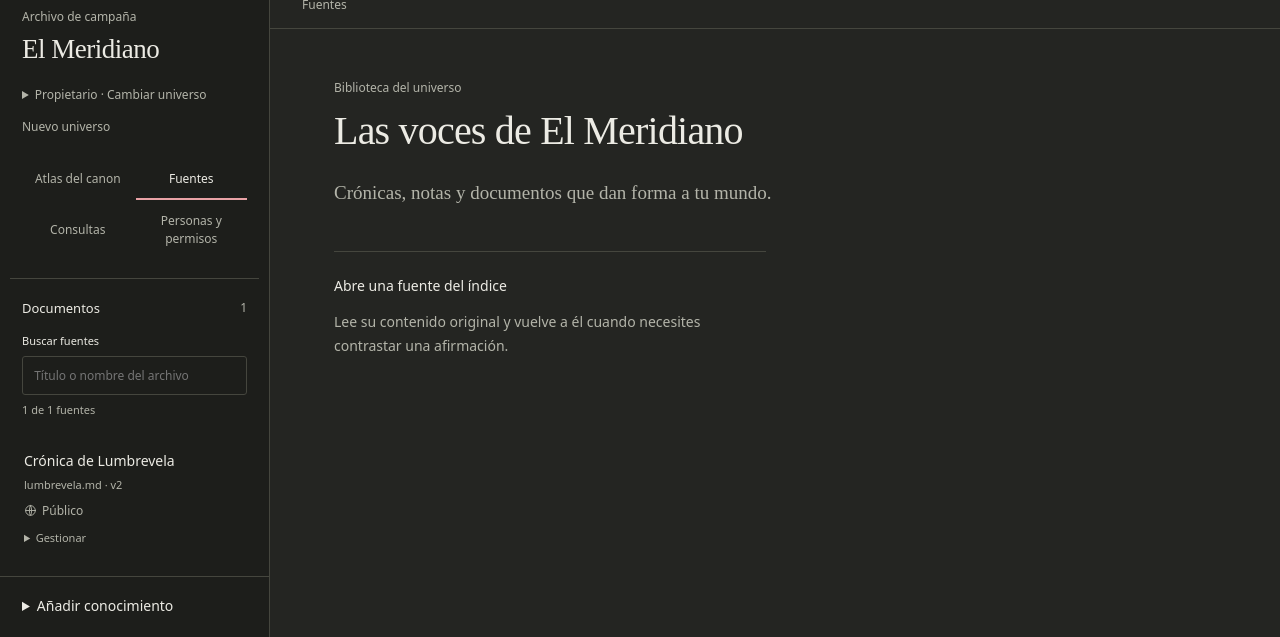
Test: App › muestra una respuesta con la localización exacta de la cita
Expected: the text "Crónica de Lumbrevela" is shown, [24,451,175,470]
Click the link "Consultas".
click(78, 229)  # box [50,221,105,238]
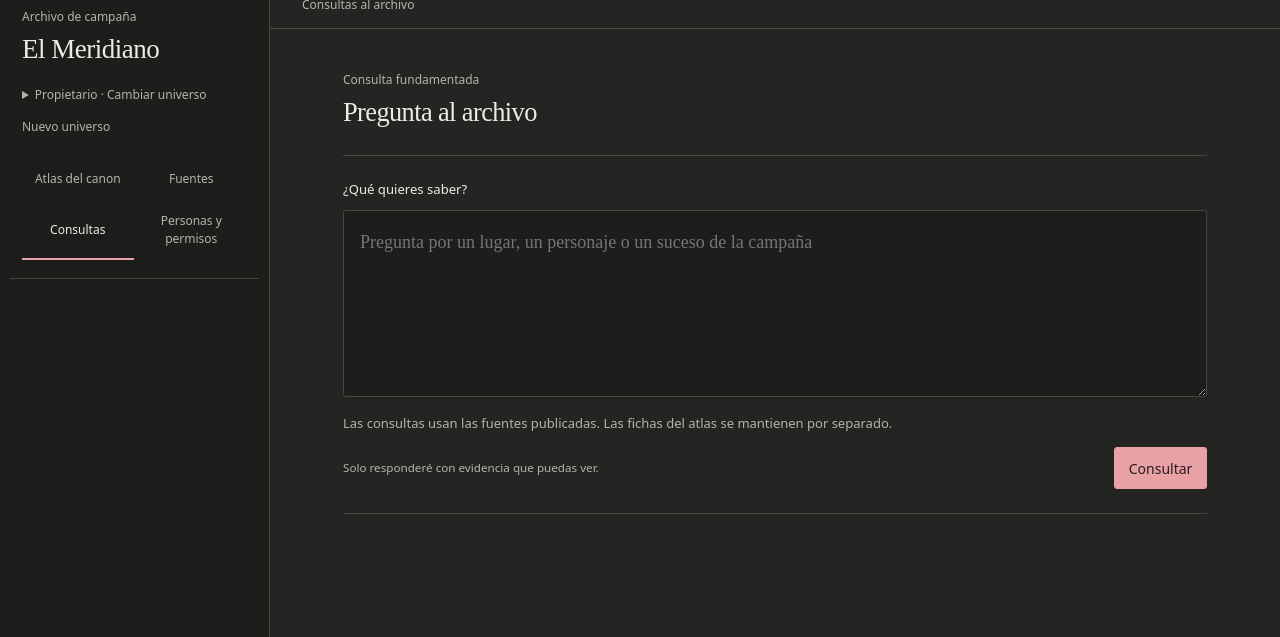
Replace the text in the text box labelled "¿Qué quieres saber?" with "¿Qué deuda conserva la Aguja?" at (775, 303), box [343,210,1207,397]
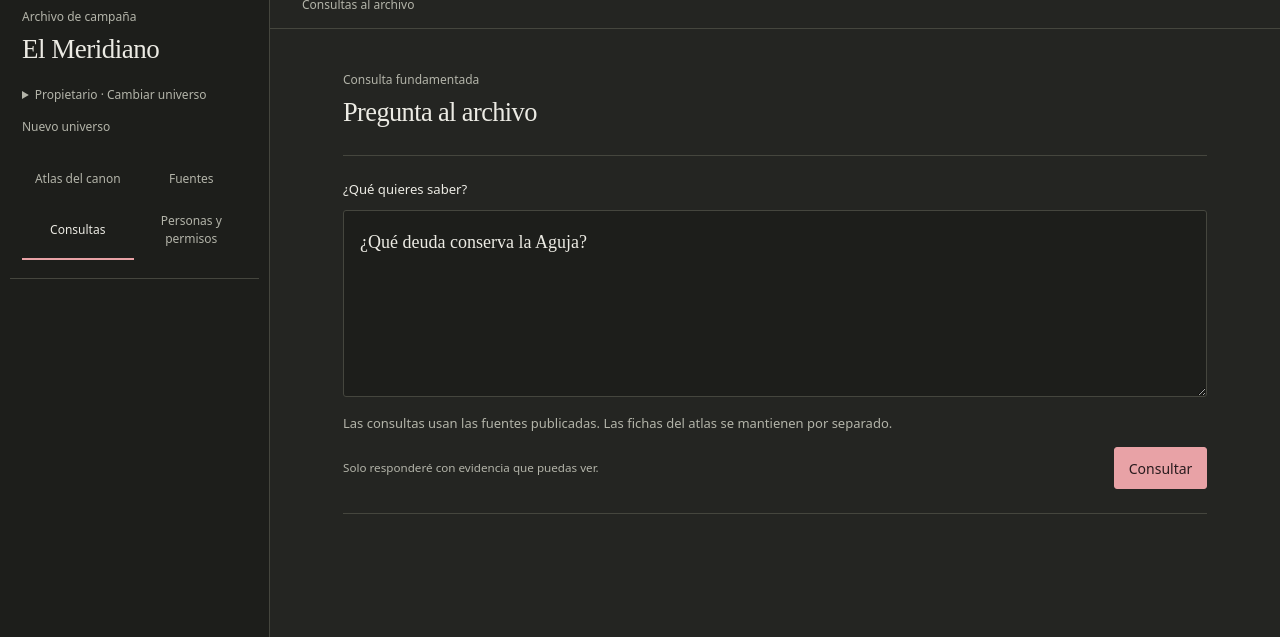
Click the button "Consultar".
click(1161, 468)  # box [1114,447,1207,489]
(page scrolled)
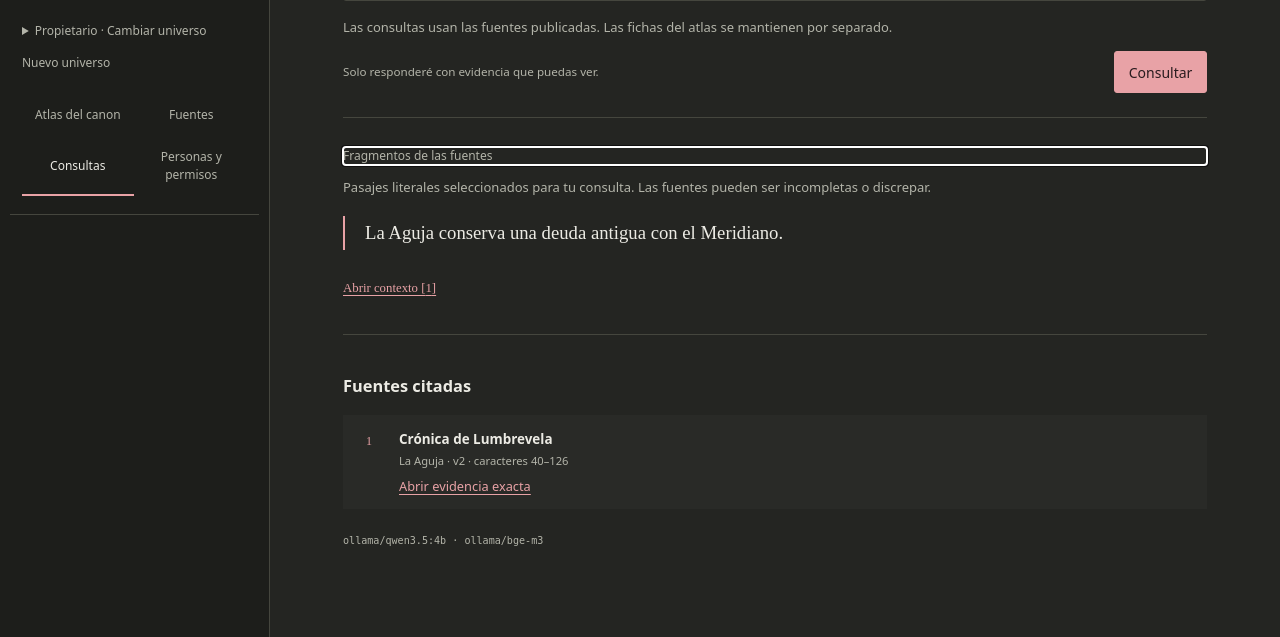
Result: the text "La Aguja conserva una deuda antigua con el Meridiano." is shown at [365,222,783,243]
Result: the text "La Aguja · v2 · caracteres 40–126" is shown at [399,453,568,468]
Click the button "Abrir evidencia exacta".
click(465, 486)  # box [399,477,531,496]
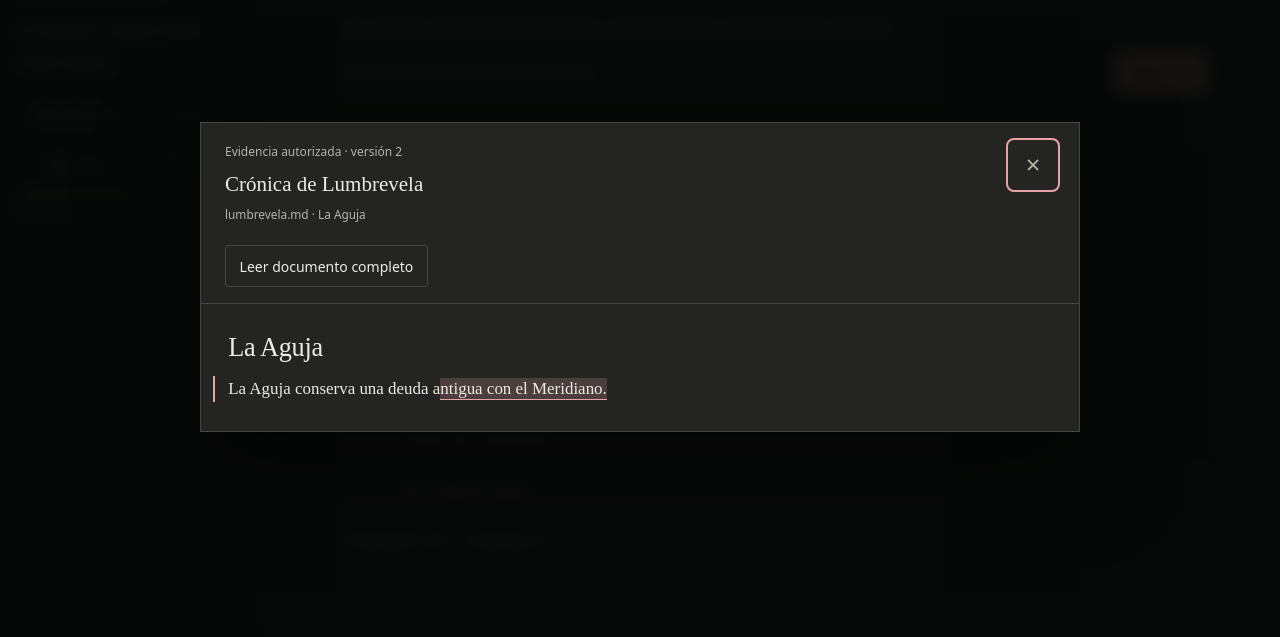
Result: the text "lumbrevela.md · La Aguja" is shown at [225,206,366,222]
